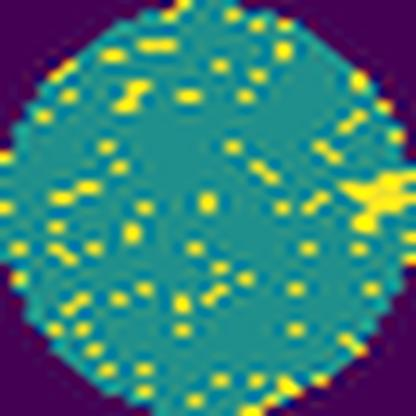Loc: (335, 169, 416, 234)
